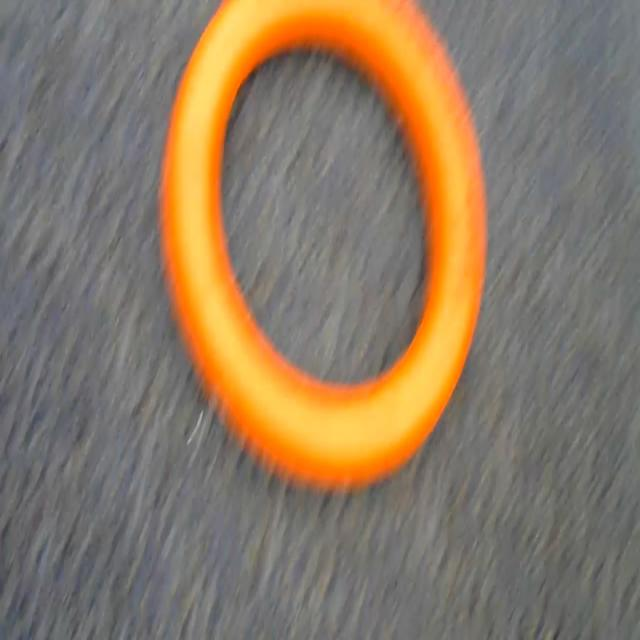note: (141, 0, 502, 492)
